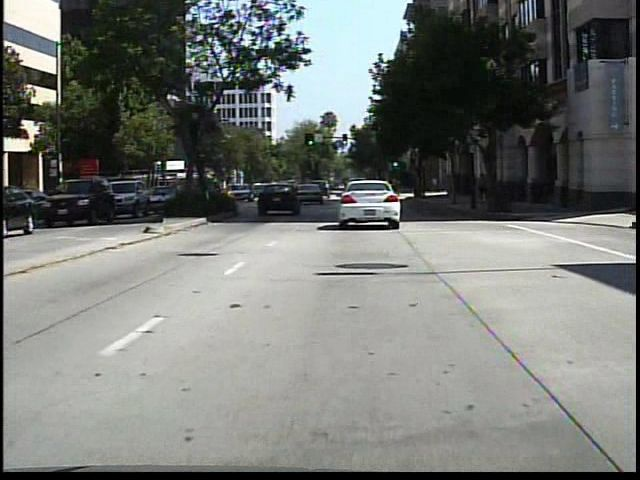person: (475, 166, 493, 209)
